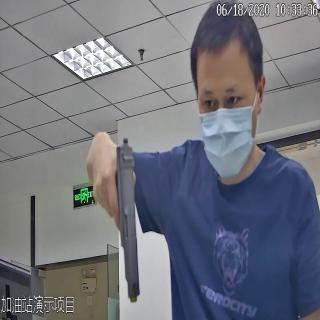gun: (95, 138, 142, 304)
